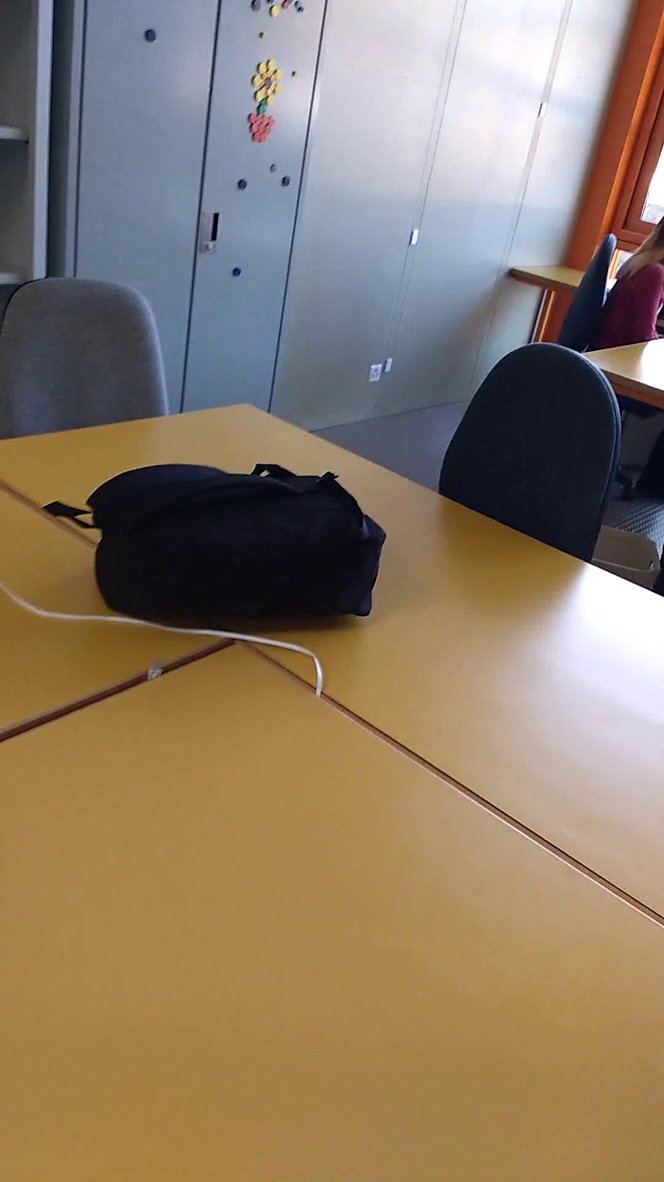bag: (37, 451, 409, 646)
chair: (430, 333, 634, 586), (2, 262, 187, 450)
